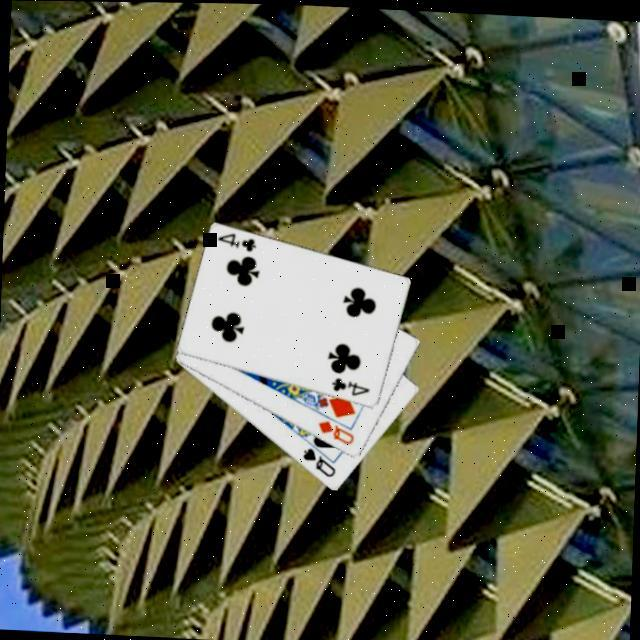4C: (326, 370, 372, 397), (212, 225, 258, 252)
QD: (314, 413, 356, 445)
QS: (298, 441, 338, 476)
